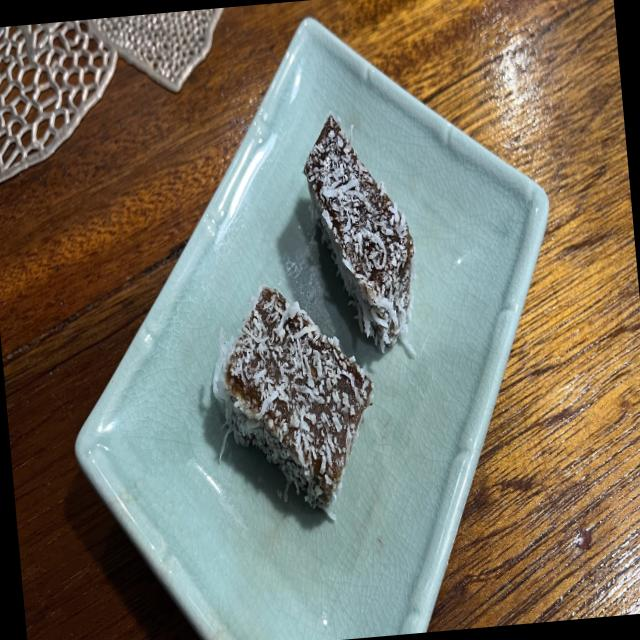kaswi: (212, 287, 372, 520), (304, 114, 414, 350)
